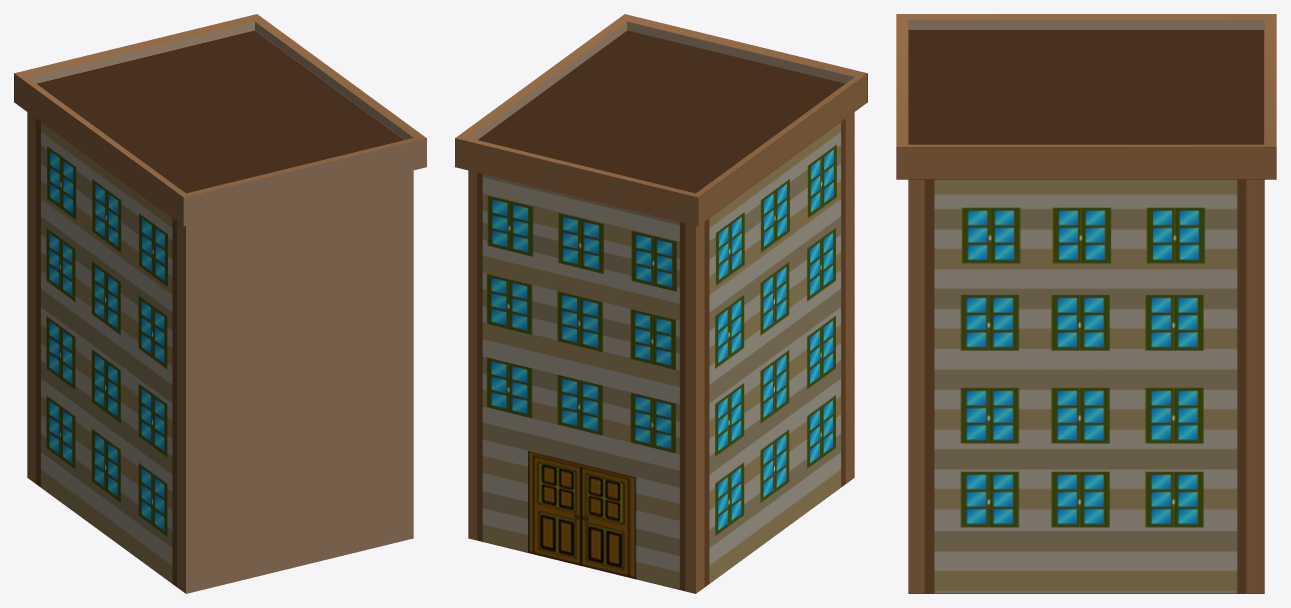
The model's file is Building 4.fbx.
The picture shows the model from 3 angles, left to right: view 1: azimuth 30°, elevation 25°; view 2: azimuth 150°, elevation 25°; view 3: azimuth 270°, elevation 25°; orthographic projection. The views are drawn at different scales.
Parts seen in each view (by area): view 1: Building_3; view 2: Building_3; view 3: Building_3.
Part boxes in pixels (x1,y1,x2,y2): Building_3: (14,14,426,593); Building_3: (455,14,867,593); Building_3: (896,14,1276,593).
Bounding box in the file's own units: 738 × 1167 × 892.
Materials: 2 (1 with a texture image).
